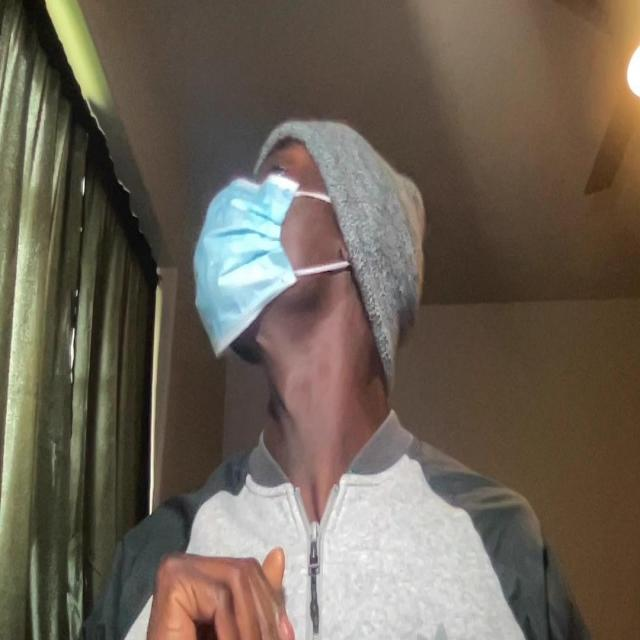face: (191, 134, 350, 364)
